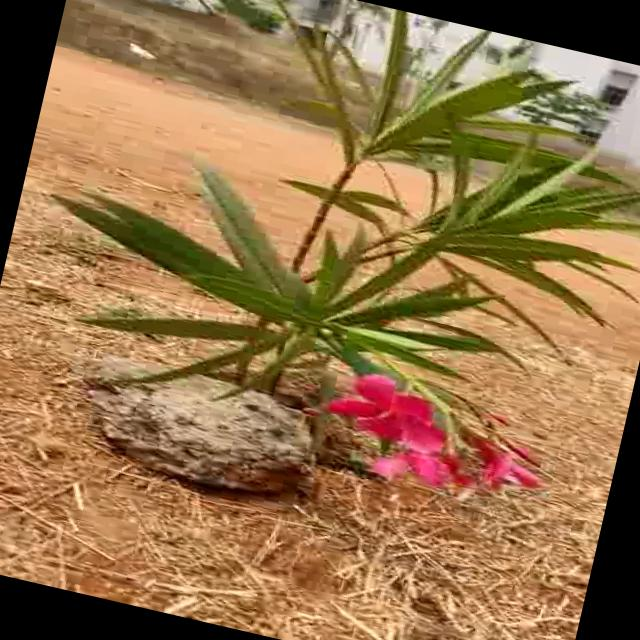OLEANDER: (35, 0, 640, 502)
